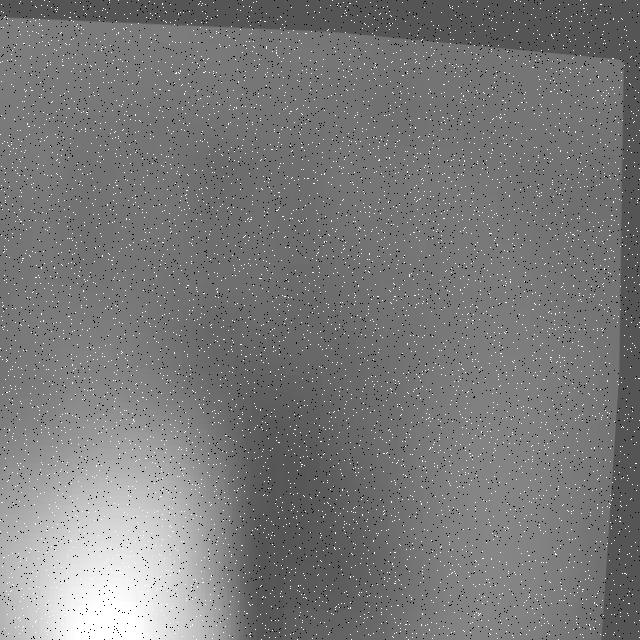person: (1, 348, 255, 640)
